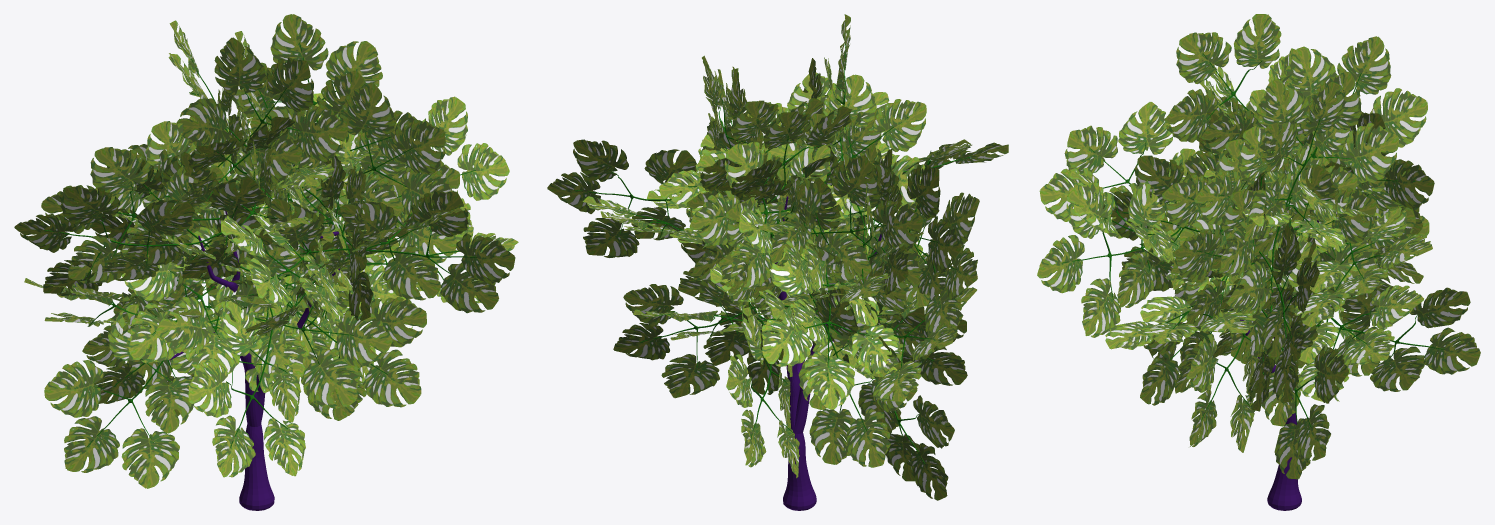
Rendered from agac_tasarm_2 1.fbx.
The picture shows the model from 3 angles, left to right: view 1: azimuth 30°, elevation 25°; view 2: azimuth 150°, elevation 25°; view 3: azimuth 270°, elevation 25°; orthographic projection. The views are drawn at different scales.
Visible parts, largest first — view 1: agac_govde|yaprak|Dupli|38, agac_govde|yaprak|Dupli|14, agac_govde|yaprak|Dupli|21, agac_govde|yaprak|Dupli|23, agac_govde|yaprak|Dupli|34, agac_govde|yaprak|Dupli|18, agac_govde|yaprak|Dupli|16, agac_govde|yaprak|Dupli|27, agac_govde|yaprak|Dupli|12, agac_govde|yaprak|Dupli|29, agac_govde|yaprak|Dupli|31, agac_govde|yaprak|Dupli|5 (+24 smaller); view 2: agac_govde|yaprak|Dupli|19, agac_govde|yaprak|Dupli|31, agac_govde|yaprak|Dupli|8, agac_govde|yaprak|Dupli|20, agac_govde|yaprak|Dupli|33, agac_govde|yaprak|Dupli|6, agac_govde|yaprak|Dupli|14, agac_govde|yaprak|Dupli|32, agac_govde|yaprak|Dupli|23, agac_govde|yaprak|Dupli|18, agac_govde|yaprak|Dupli|, agac_govde|yaprak|Dupli|26 (+23 smaller); view 3: agac_govde|yaprak|Dupli|38, agac_govde|yaprak|Dupli|29, agac_govde|yaprak|Dupli|30, agac_govde|yaprak|Dupli|21, agac_govde|yaprak|Dupli|, agac_govde|yaprak|Dupli|26, agac_govde|yaprak|Dupli|39, agac_govde|yaprak|Dupli|33, agac_govde|yaprak|Dupli|31, agac_govde|yaprak|Dupli|24, agac_govde|yaprak|Dupli|25, agac_govde|yaprak|Dupli|11 (+17 smaller).
Part boxes in pixels (<box>): agac_govde|yaprak|Dupli|38: <box>266,190,515,313</box>; agac_govde|yaprak|Dupli|14: <box>44,285,214,488</box>; agac_govde|yaprak|Dupli|21: <box>127,37,348,232</box>; agac_govde|yaprak|Dupli|23: <box>14,176,265,295</box>; agac_govde|yaprak|Dupli|34: <box>188,300,315,477</box>; agac_govde|yaprak|Dupli|18: <box>41,142,291,283</box>; agac_govde|yaprak|Dupli|16: <box>163,234,392,408</box>; agac_govde|yaprak|Dupli|27: <box>288,82,454,245</box>; agac_govde|yaprak|Dupli|12: <box>214,240,426,420</box>; agac_govde|yaprak|Dupli|29: <box>230,14,405,230</box>; agac_govde|yaprak|Dupli|31: <box>329,96,509,253</box>; agac_govde|yaprak|Dupli|5: <box>121,212,292,379</box>; agac_govde|yaprak|Dupli|19: <box>761,218,902,409</box>; agac_govde|yaprak|Dupli|31: <box>547,126,762,257</box>; agac_govde|yaprak|Dupli|8: <box>705,156,923,291</box>; agac_govde|yaprak|Dupli|20: <box>689,127,871,291</box>; agac_govde|yaprak|Dupli|33: <box>613,281,756,398</box>; agac_govde|yaprak|Dupli|6: <box>766,231,917,467</box>; agac_govde|yaprak|Dupli|14: <box>812,288,954,500</box>; agac_govde|yaprak|Dupli|32: <box>697,74,926,238</box>; agac_govde|yaprak|Dupli|23: <box>863,144,979,337</box>; agac_govde|yaprak|Dupli|18: <box>825,147,961,308</box>; agac_govde|yaprak|Dupli|: <box>725,283,799,478</box>; agac_govde|yaprak|Dupli|26: <box>730,106,851,207</box>; agac_govde|yaprak|Dupli|38: <box>1037,148,1196,337</box>; agac_govde|yaprak|Dupli|29: <box>1227,81,1350,314</box>; agac_govde|yaprak|Dupli|30: <box>1179,71,1398,289</box>; agac_govde|yaprak|Dupli|21: <box>1164,14,1311,156</box>; agac_govde|yaprak|Dupli|: <box>1272,286,1480,391</box>; agac_govde|yaprak|Dupli|26: <box>1205,36,1427,255</box>; agac_govde|yaprak|Dupli|39: <box>1039,102,1266,281</box>; agac_govde|yaprak|Dupli|33: <box>1230,258,1348,479</box>; agac_govde|yaprak|Dupli|31: <box>1243,172,1319,402</box>; agac_govde|yaprak|Dupli|24: <box>1293,184,1432,327</box>; agac_govde|yaprak|Dupli|25: <box>1194,125,1354,276</box>; agac_govde|yaprak|Dupli|11: <box>1292,285,1423,401</box>.
Bounding box in the file's own units: 1042 × 1024 × 863.
